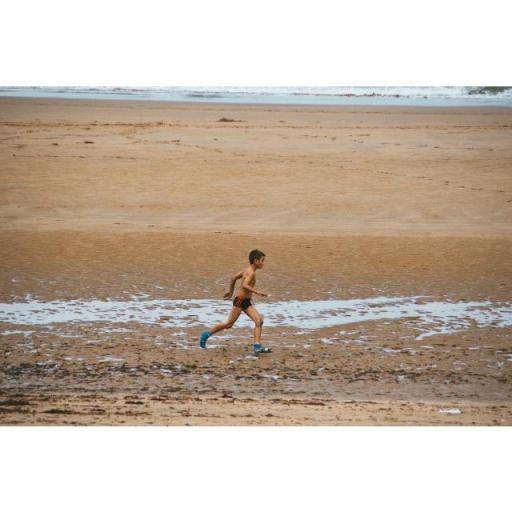Running: (192, 237, 286, 359)
